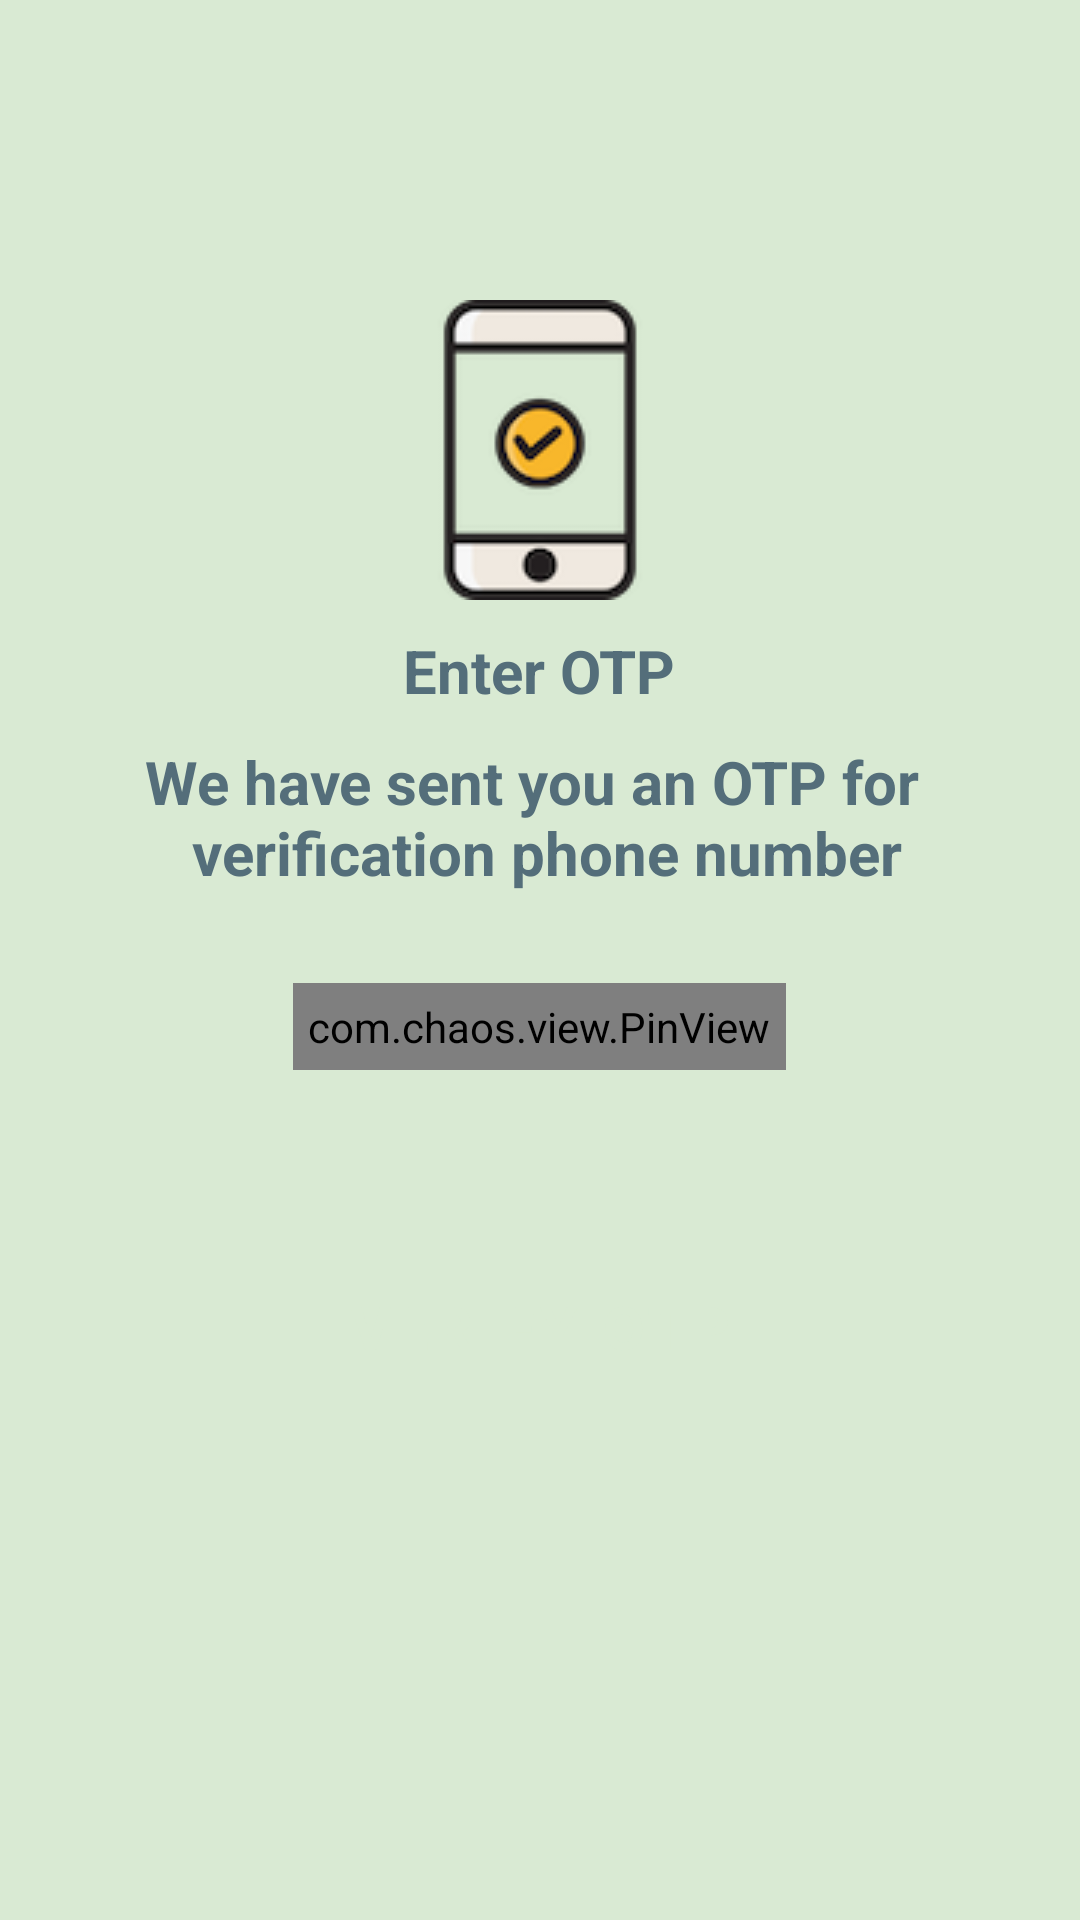

Point at icon controls on the screen. Image size 1080 x 1920, points as [x,y].
verify number_image: [540,450]
